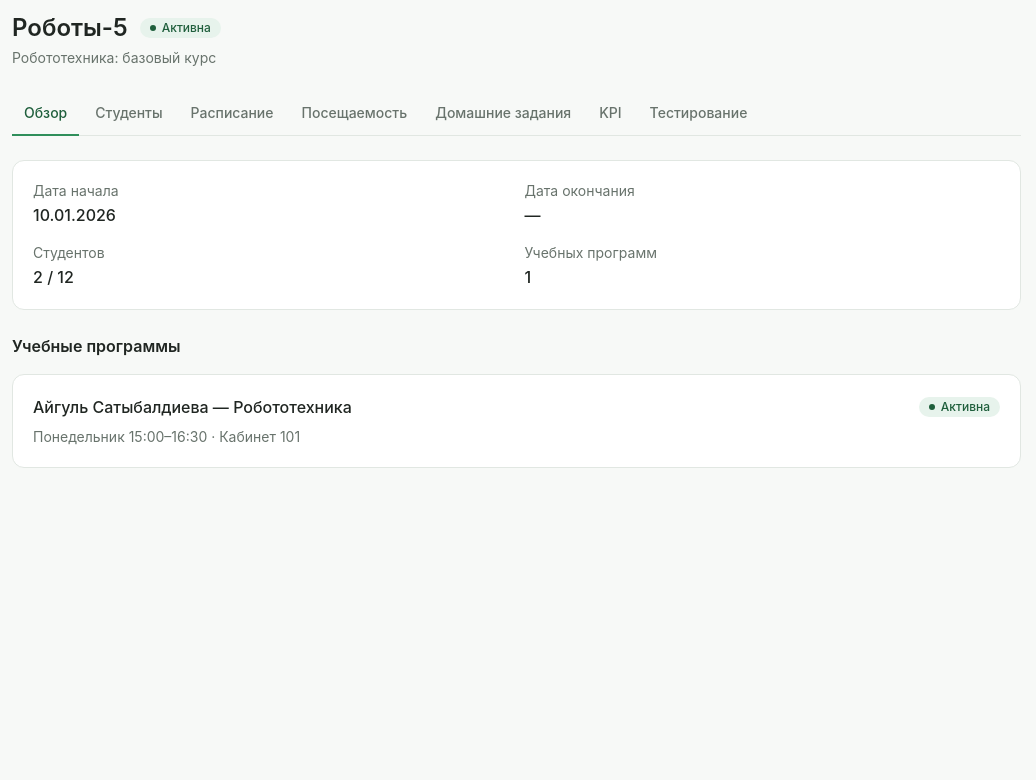
Scenario: manual «С — По» range › says «Нет данных за выбранный период» when the range has nothing
Expected: the heading "Роботы-5" is shown, [12,12,128,44]
Click the tab "KPI" at (610, 114), box [587,92,634,136]
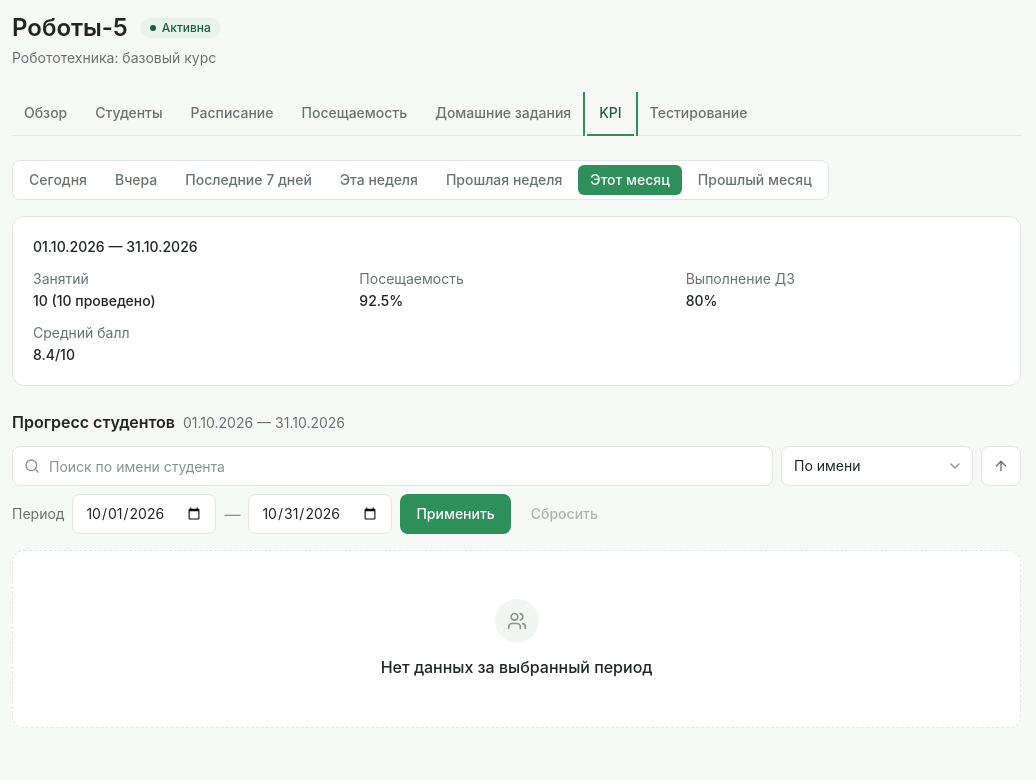
Result: the text "Нет данных за выбранный период" is shown at [381,655,652,679]
Result: the date field named "Дата начала" is shown at [72,494,216,534]
